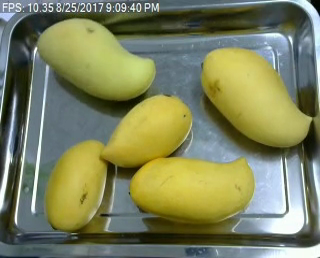Mango: (201, 48, 314, 149), (37, 14, 158, 100), (128, 156, 254, 224), (99, 91, 190, 166), (42, 139, 110, 230)
